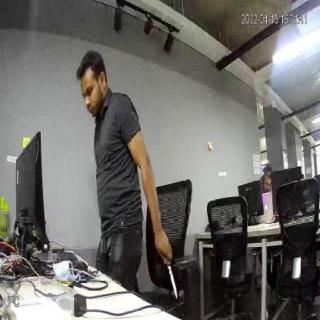knife: (161, 254, 180, 300)
